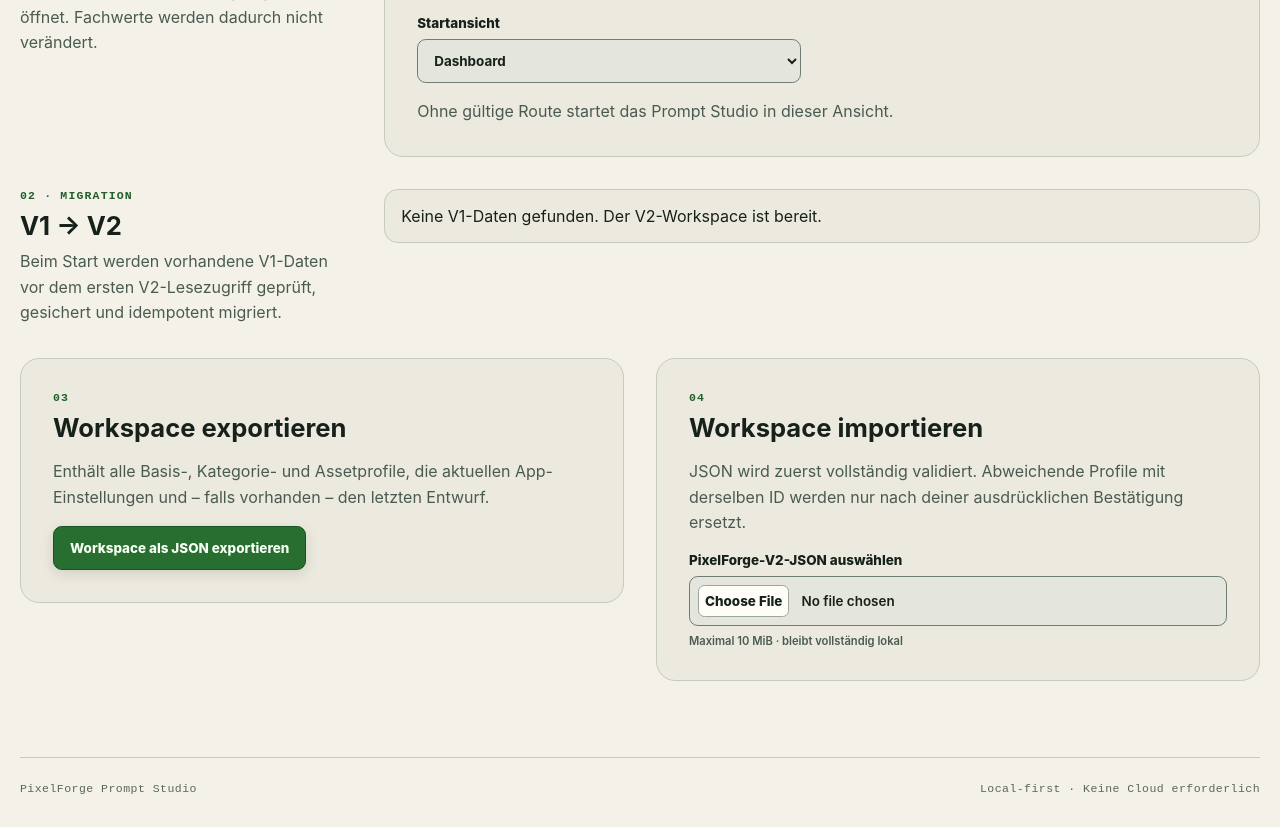
Scenario: settings workspace transfer › exports profiles, settings, and the local draft as one validated JSON file
(page scrolled)
What coordinates should you click on to do the following:
click the button "Workspace als JSON exportieren"
I would click on:
 (180, 548)
Its box is x1=53 y1=526 x2=306 y2=570.
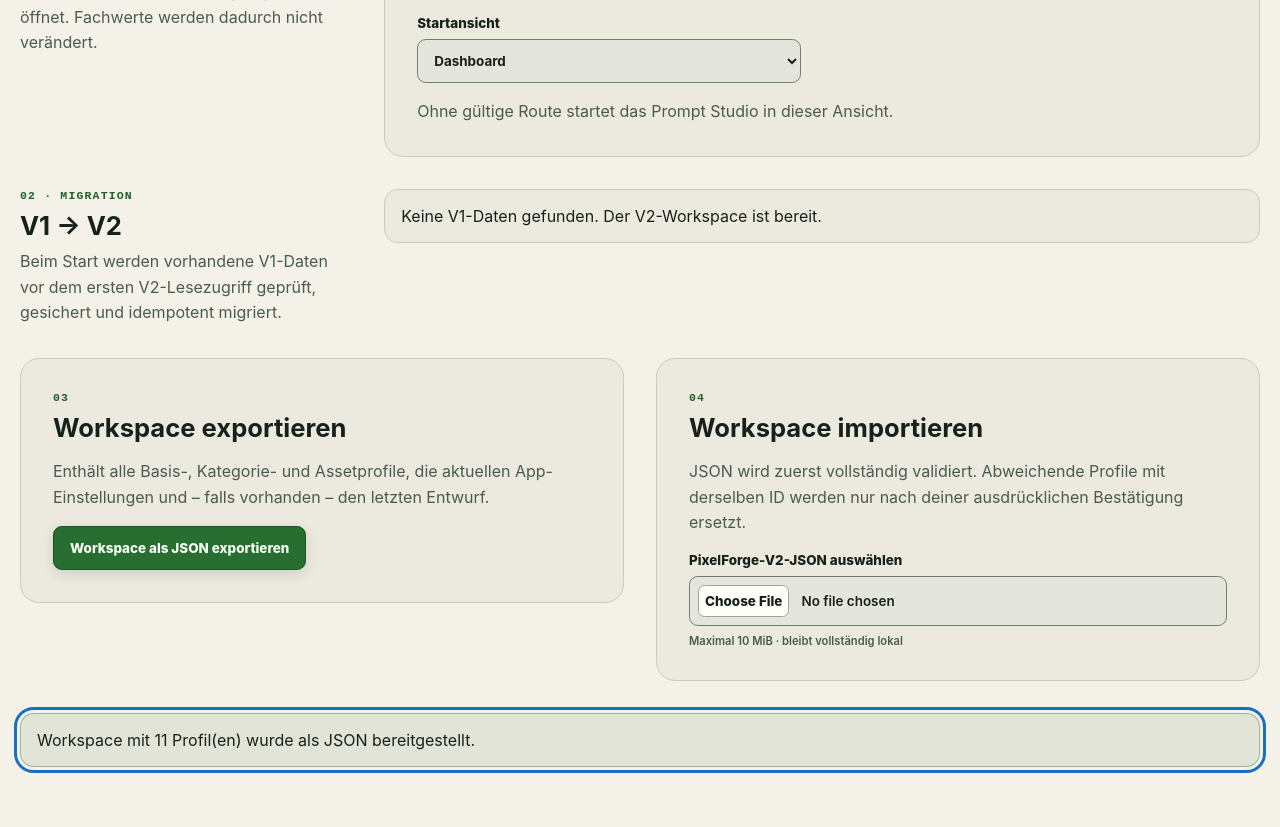
Expected: the text "Workspace mit 11 Profil(en) wurde als JSON bereitgestellt." is shown, x1=20 y1=713 x2=1260 y2=767
